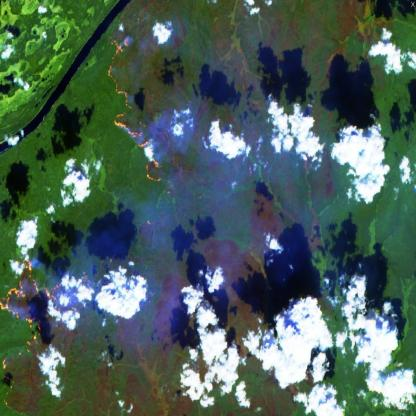fire: (0, 248, 84, 416), (106, 27, 182, 198)
